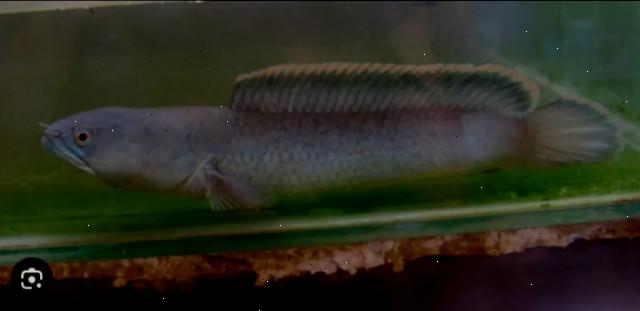Mulut: (32, 118, 108, 180)
Sirip Dada: (182, 164, 282, 220)
Sirip Ekor: (516, 94, 630, 172)
Sirip Punggung: (218, 58, 538, 120)
